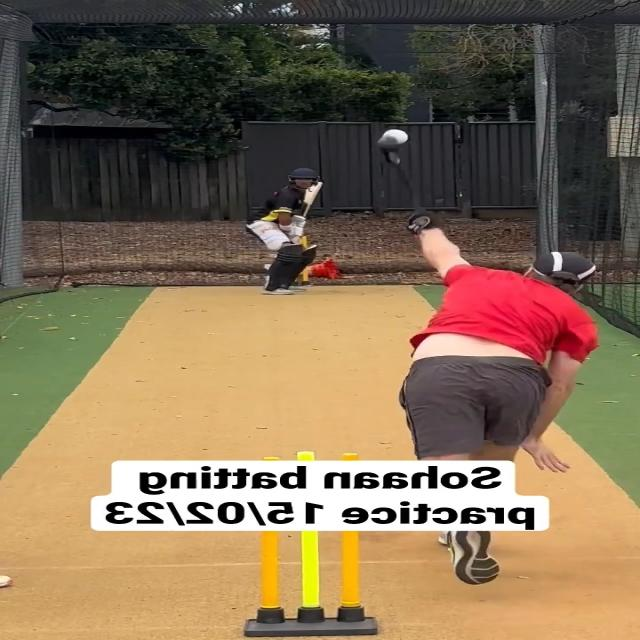stump: (243, 528, 375, 634)
